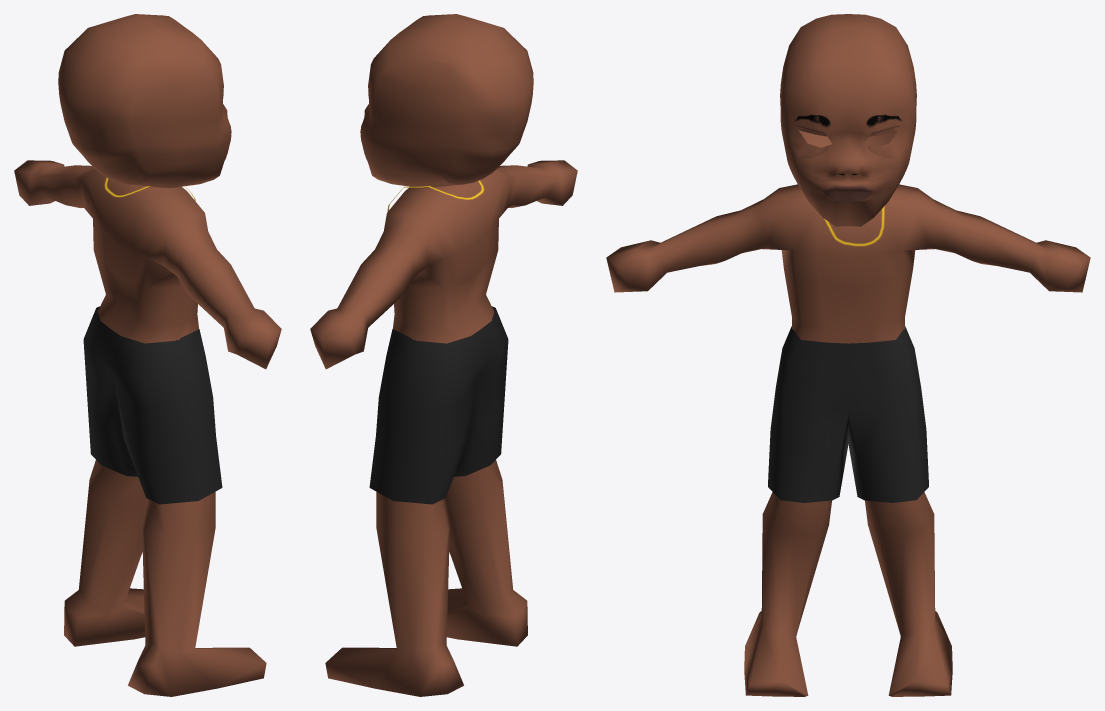
The model's file is character.gltf.
The picture shows the model from 3 angles, left to right: view 1: azimuth 30°, elevation 25°; view 2: azimuth 150°, elevation 25°; view 3: azimuth 270°, elevation 25°; orthographic projection.
Visible parts, largest first — view 1: malik; view 2: malik; view 3: malik.
Part boxes in pixels (x1,y1,x2,y2): malik: [14, 14, 281, 696]; malik: [310, 14, 577, 696]; malik: [606, 14, 1090, 696].
Bounding box in the file's own units: 2.41 × 9.46 × 6.5.
Materials: 3 (2 with a texture image).
